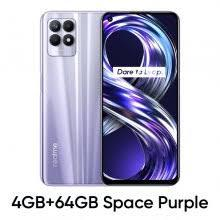Smartphone: (102, 15, 178, 185), (43, 12, 105, 189)
